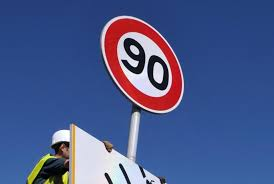Speed_limit_90km: (99, 14, 187, 114)
